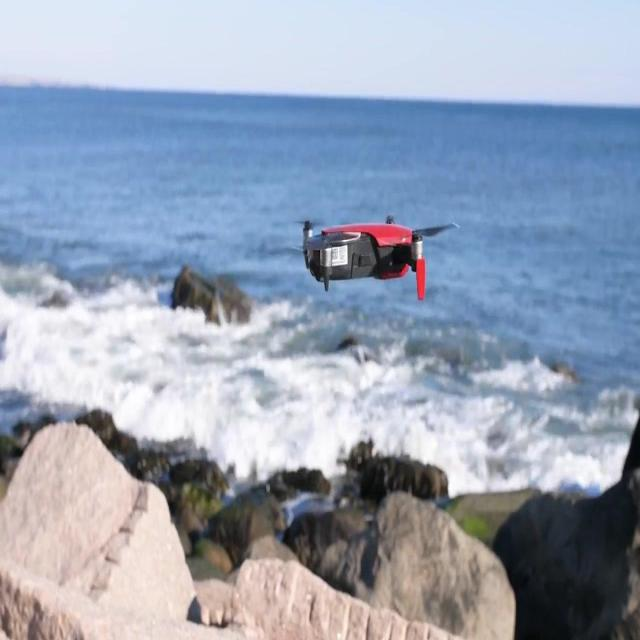drone: (295, 215, 462, 304)
